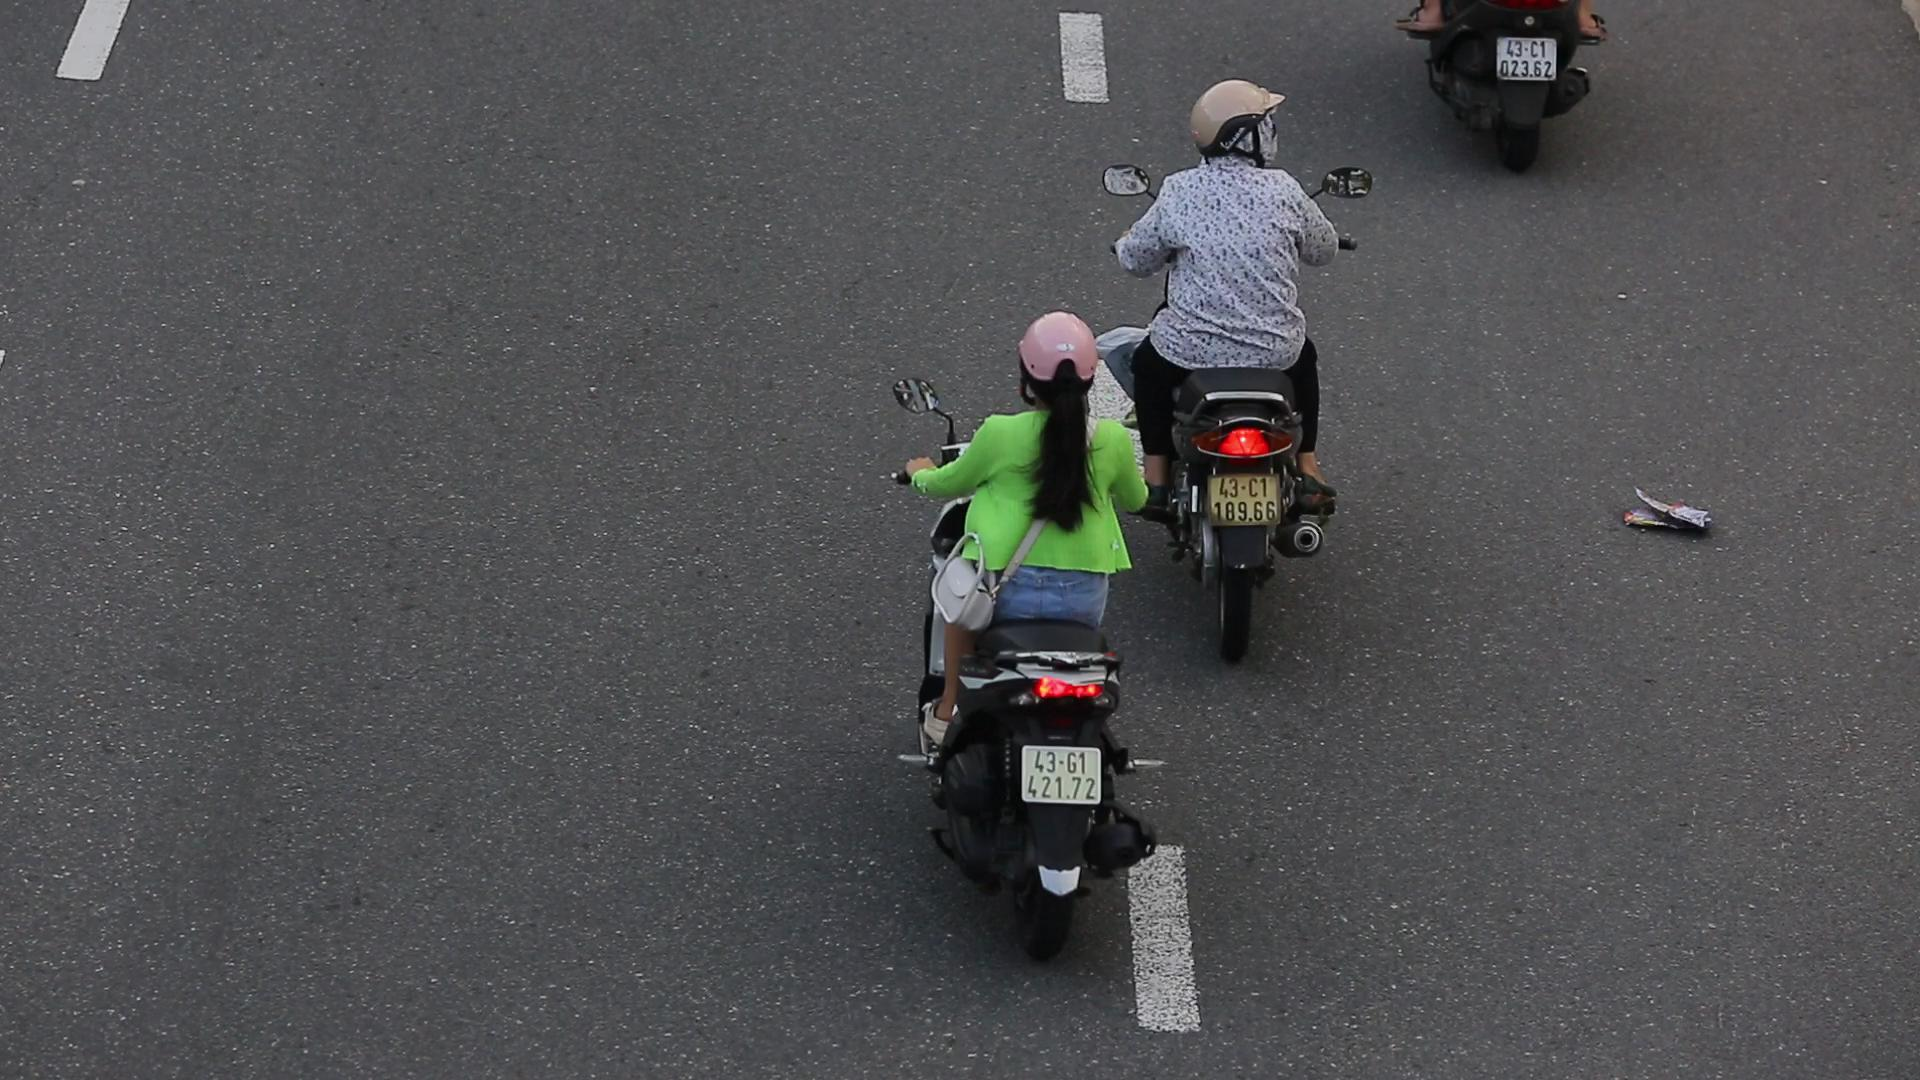motobike: (884, 309, 1158, 982), (1101, 70, 1383, 683)
